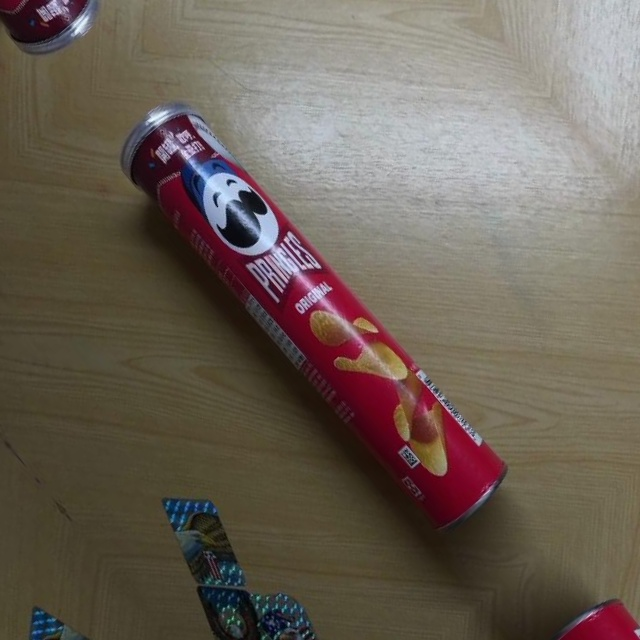Pringles: (105, 83, 516, 544)
